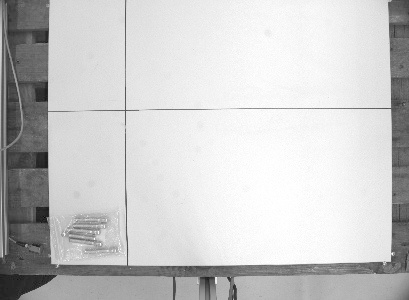t2: (43, 207, 128, 268)
